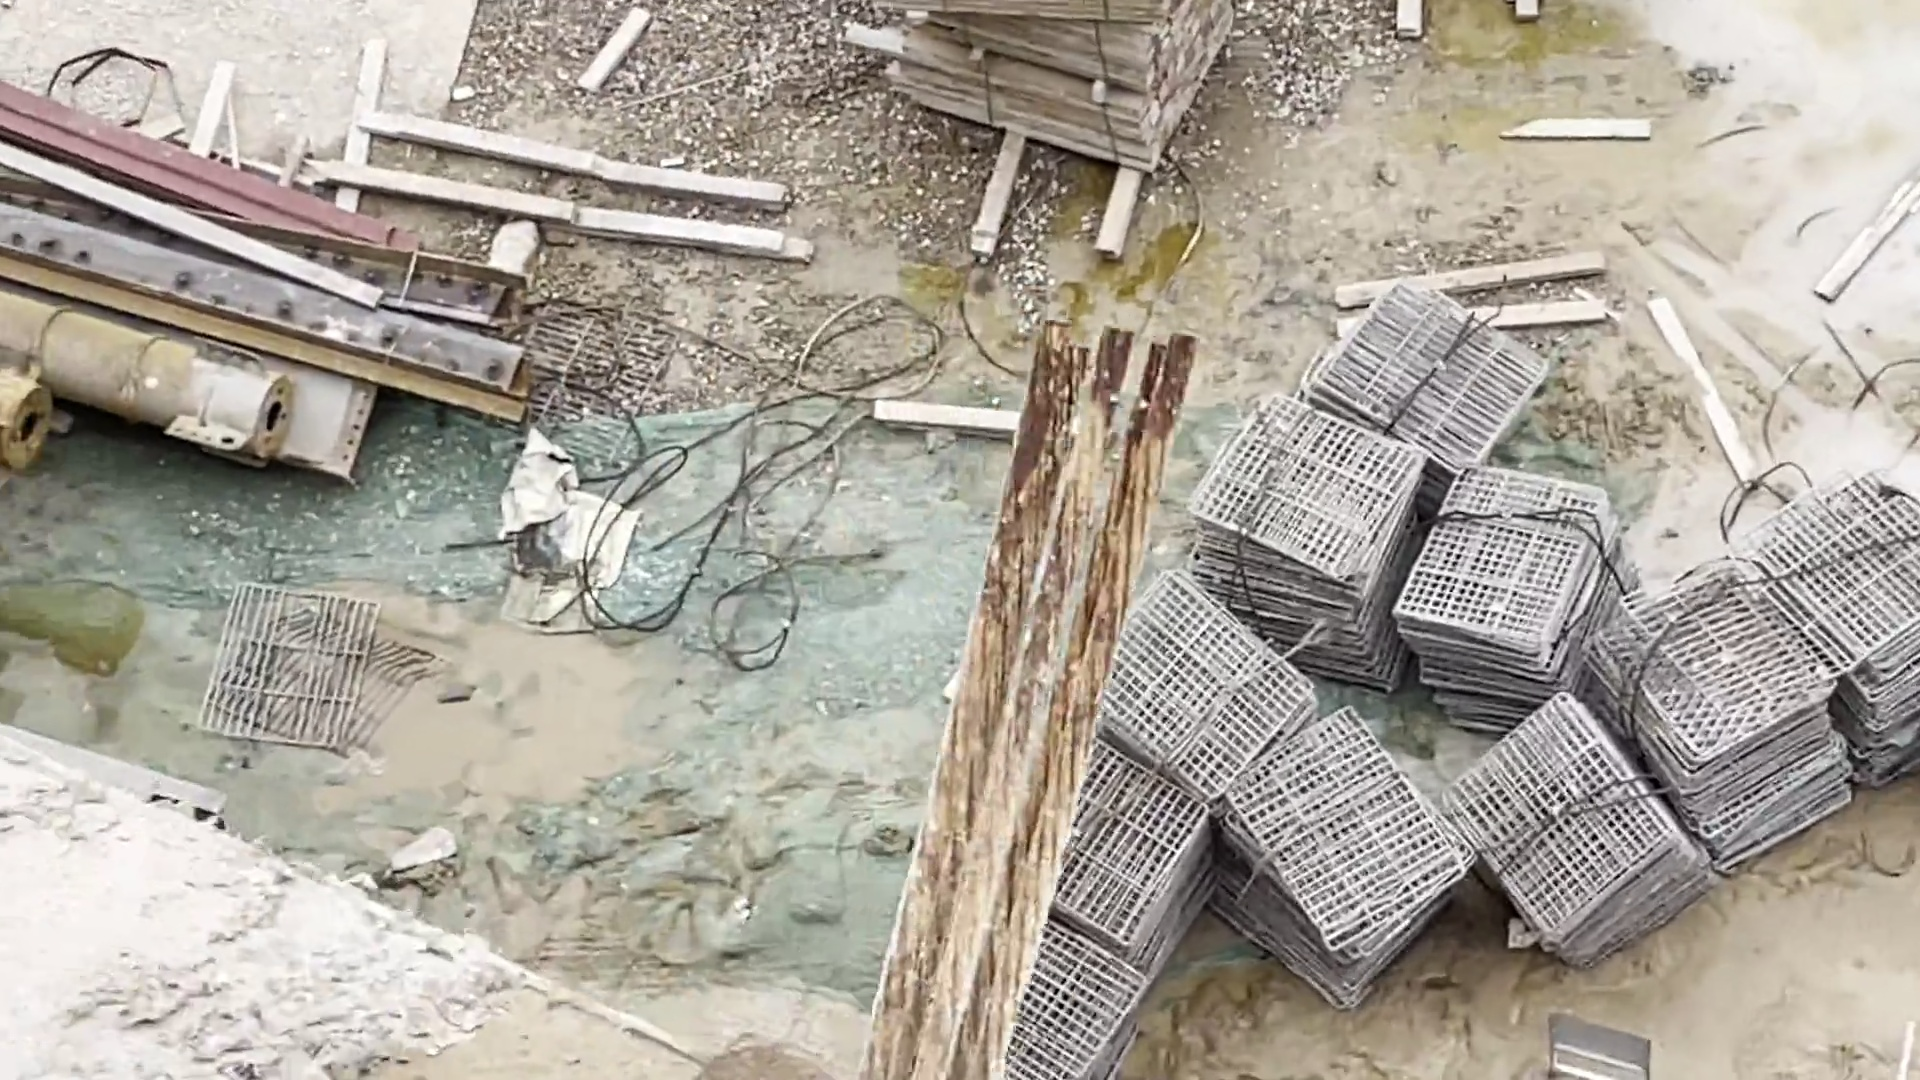wood: (851, 1, 1237, 167)
